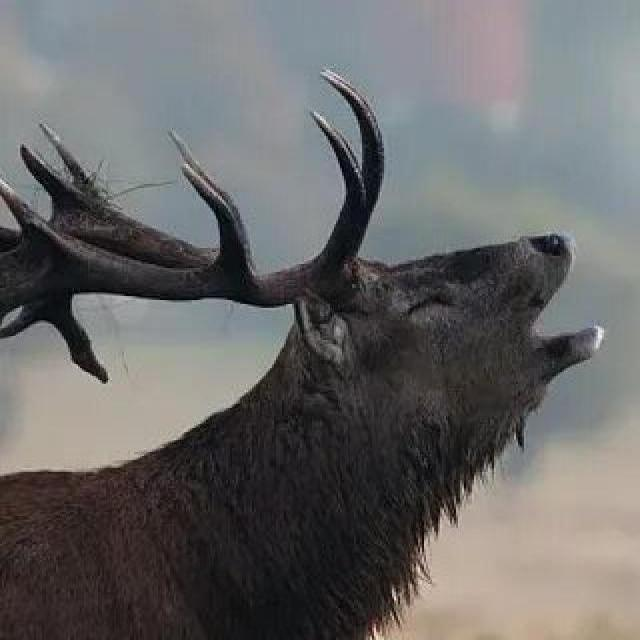deer: (16, 101, 606, 640)
